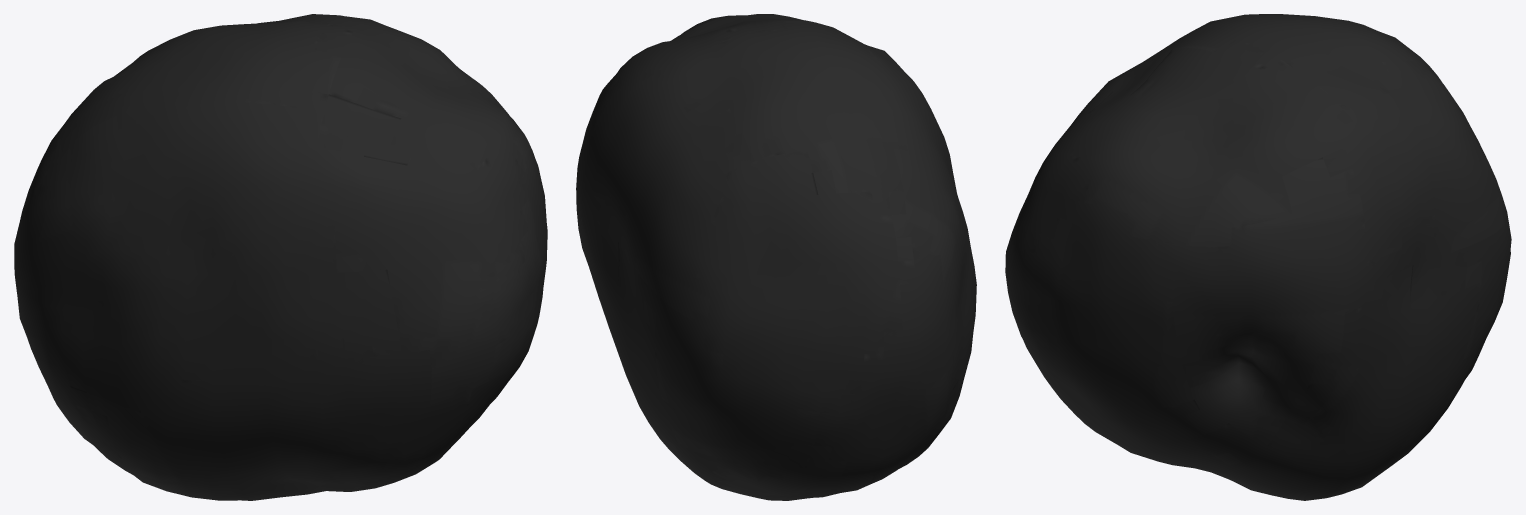
Rendered from asteroid-2.glb.
The picture shows the model from 3 angles, left to right: view 1: azimuth 30°, elevation 25°; view 2: azimuth 150°, elevation 25°; view 3: azimuth 270°, elevation 25°; orthographic projection. The views are drawn at different scales.
Visible parts, largest first — view 1: asteroid; view 2: asteroid; view 3: asteroid.
Boxes of the visible parts, x1,y1,x2,y2 form: asteroid: (14, 14, 547, 500); asteroid: (576, 14, 976, 500); asteroid: (1005, 14, 1511, 500).
Bounding box in the file's own units: 0.094 × 0.0975 × 0.0987.
Materials: 1 (1 with a texture image).
